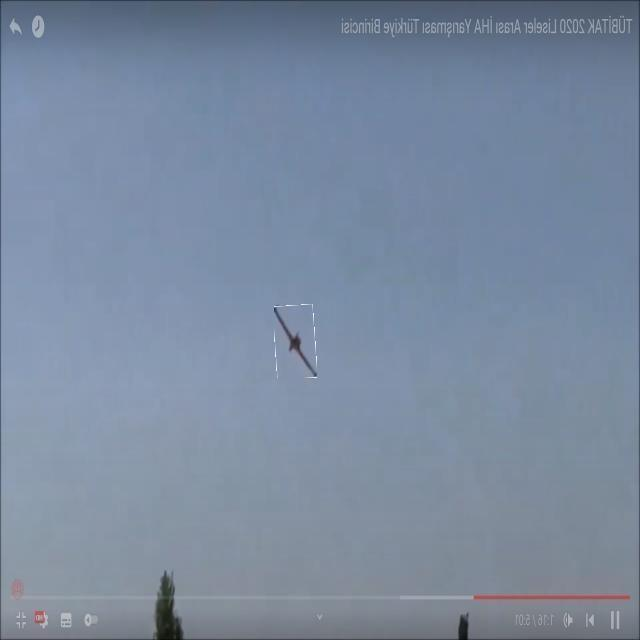Airplane: (269, 303, 324, 388)
